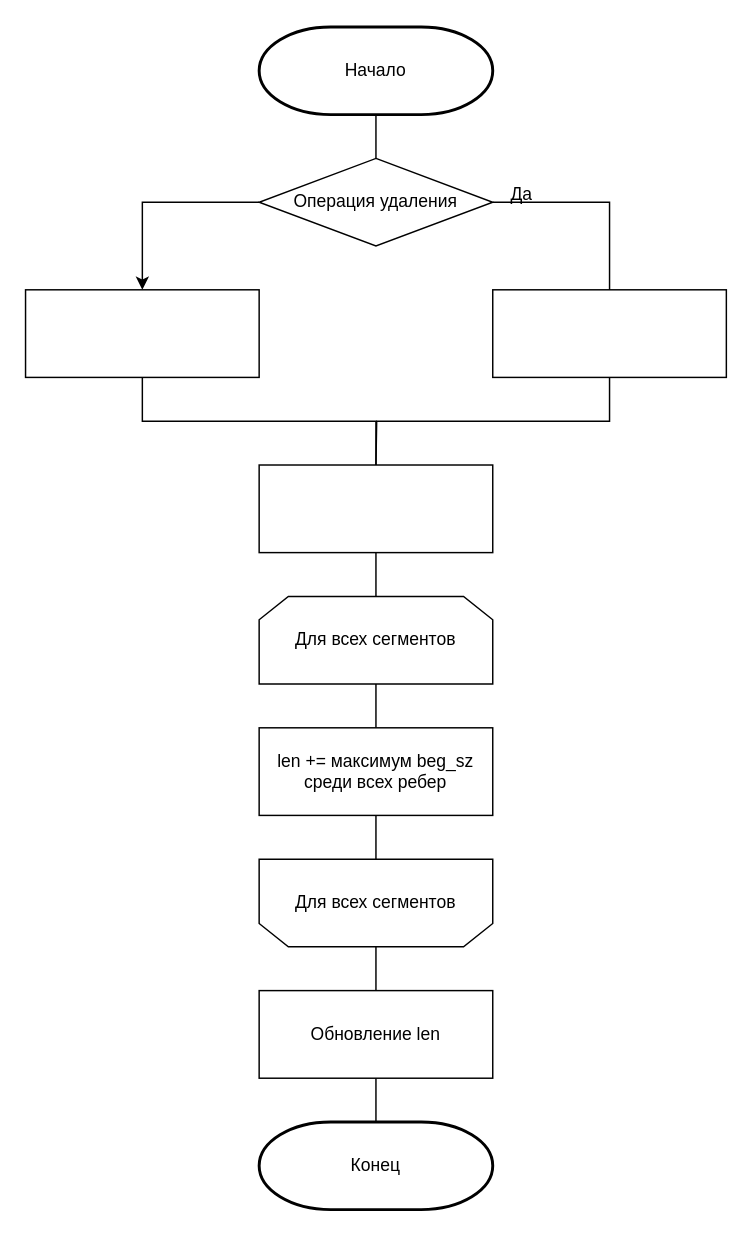
Some shapes in this 752 by 1235 pixel diagram are drawn without their labels. Each missing label, with the centre of its shape:
"len = 0" goes at (375,508).
"tube_id_val = new.tube_id" goes at (141,332).
"tube_id_val = old.tube_id" goes at (608,332).
